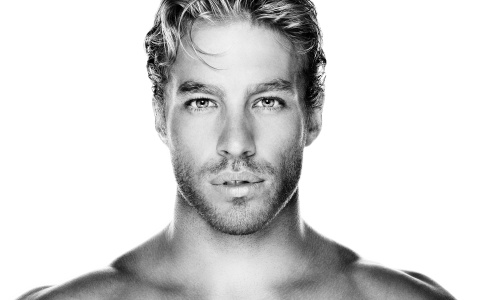Forehead: (167, 24, 298, 86)
